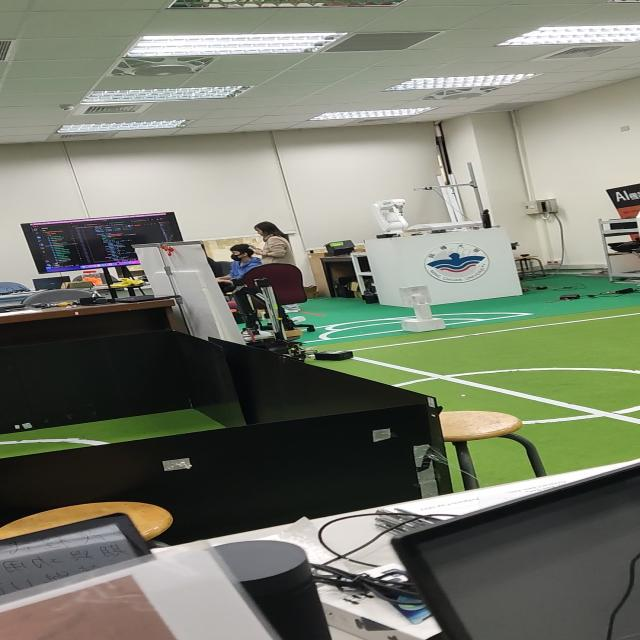person: (247, 216, 300, 264), (223, 241, 255, 276)
